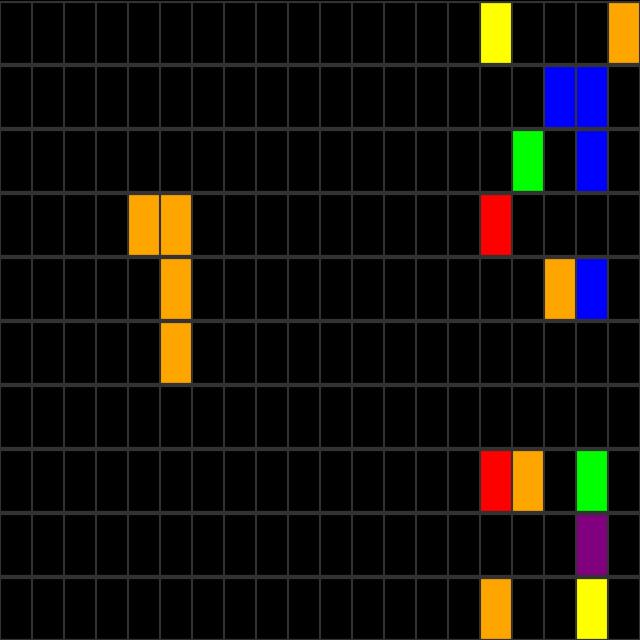Tetrimino_I: (128, 192, 193, 382)
